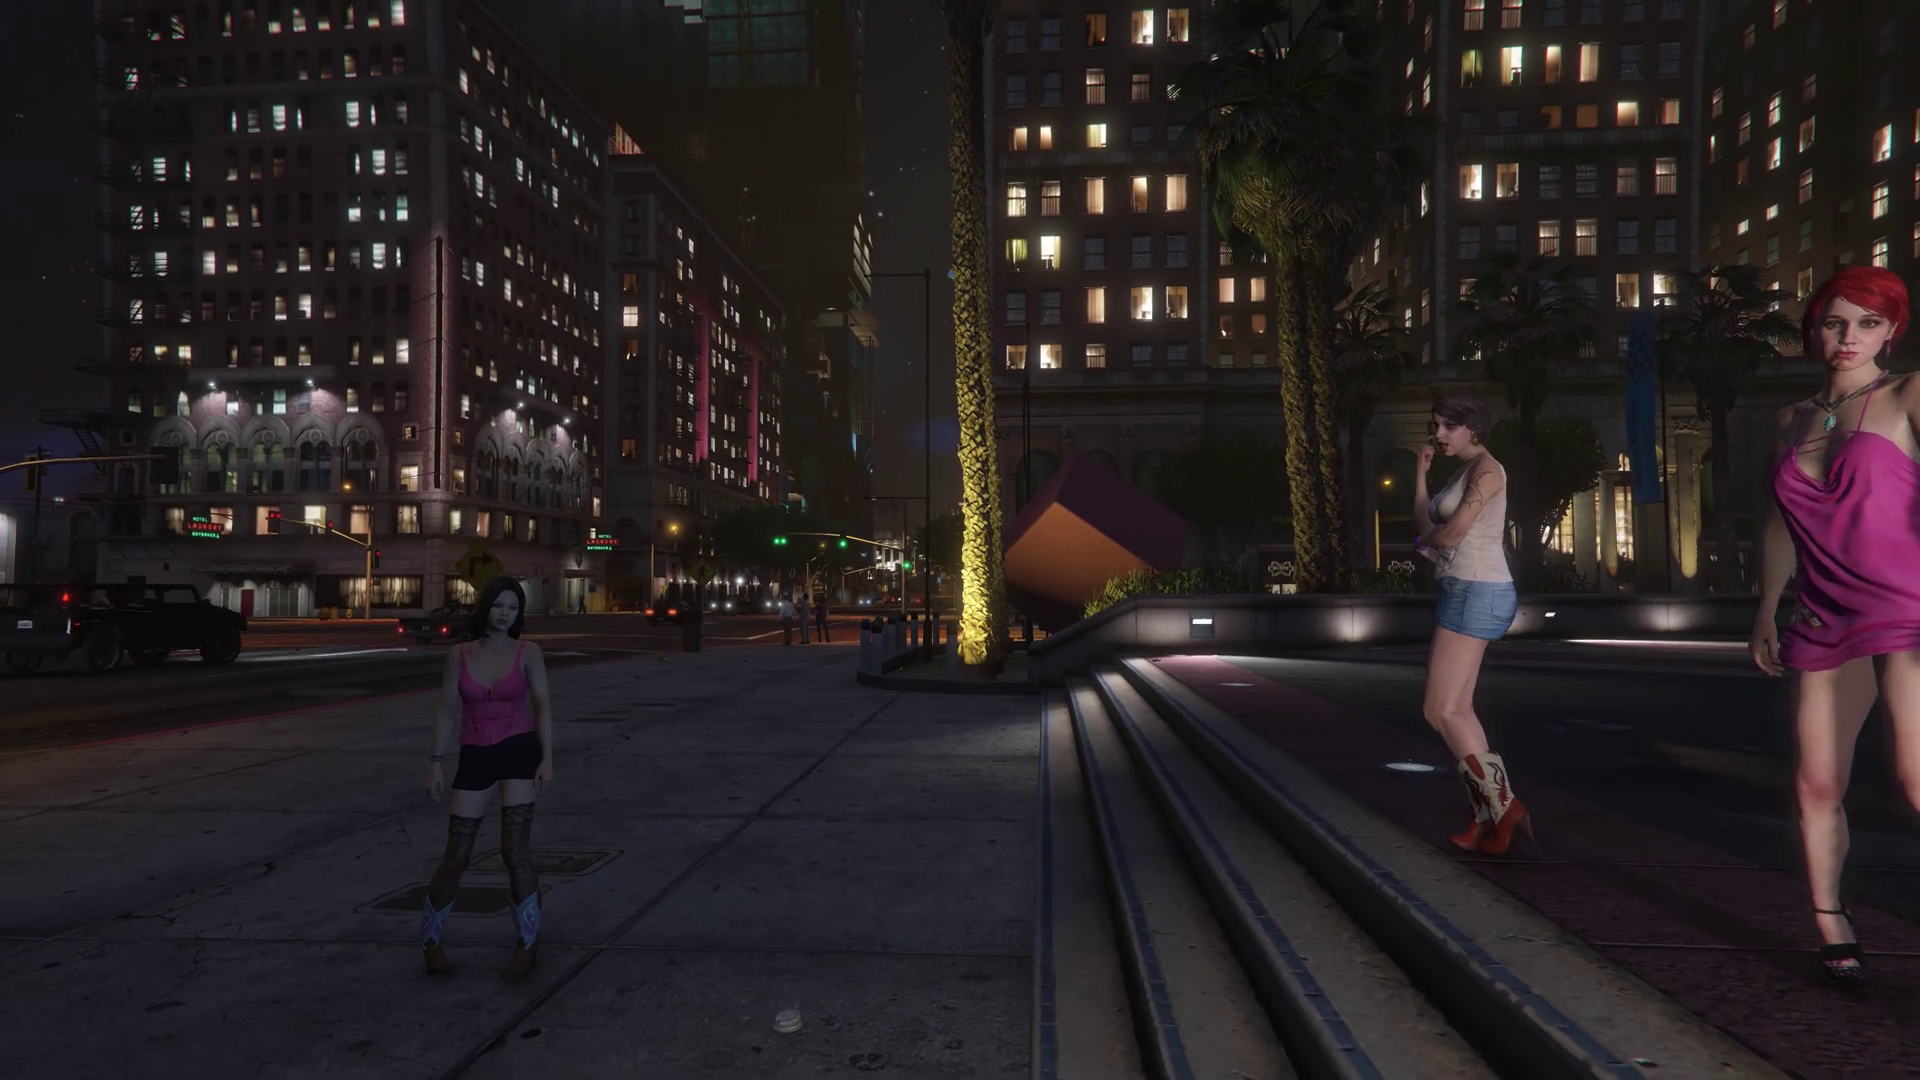car: (2, 584, 246, 668), (394, 603, 488, 642), (644, 599, 689, 625), (707, 594, 748, 616), (762, 598, 784, 614)
person: (1758, 262, 1920, 976), (1415, 396, 1536, 862), (420, 579, 555, 975), (777, 596, 796, 644), (813, 598, 831, 642), (798, 595, 811, 644)
traffic light: (772, 533, 789, 564), (267, 509, 280, 535), (903, 544, 913, 572), (835, 535, 847, 556), (372, 549, 381, 570), (326, 521, 333, 540), (371, 577, 379, 587)
